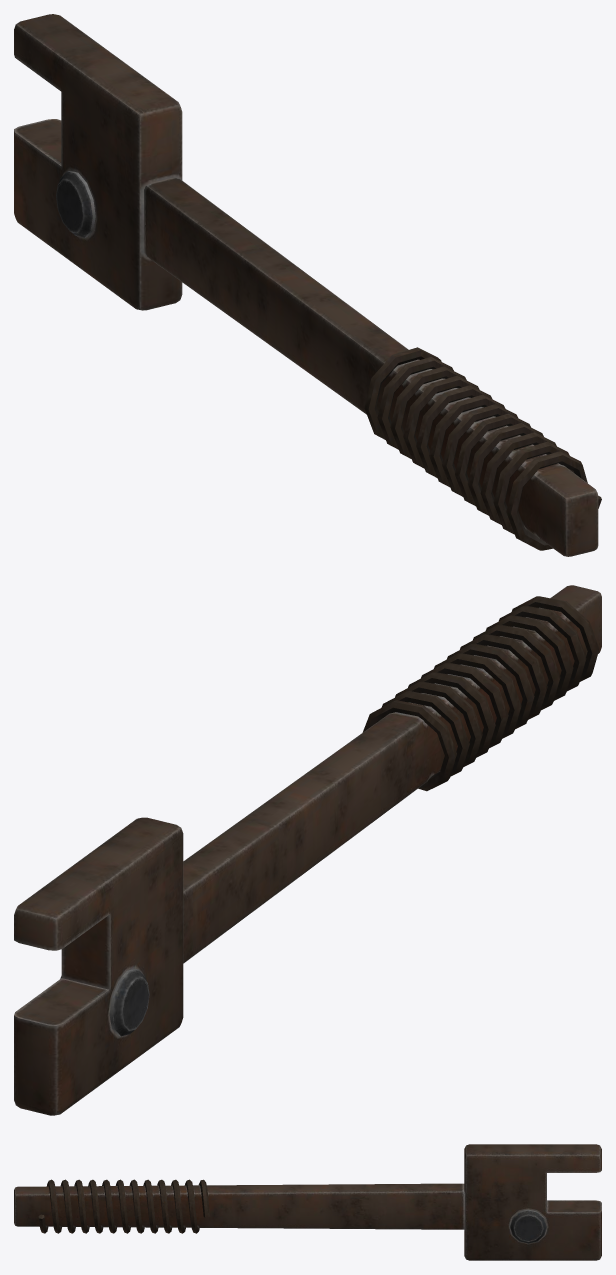
Rendered from pighcib_wrench.glb.
3 renders of one model, top to bottom at view 1: azimuth 30°, elevation 25°; view 2: azimuth 150°, elevation 25°; view 3: azimuth 270°, elevation 25°, orthographic. The views are drawn at different scales.
Parts seen in each view (by area): view 1: pighcib_wrench; view 2: pighcib_wrench; view 3: pighcib_wrench.
Part boxes in pixels (x1,y1,x2,y2): pighcib_wrench: (14,14,601,556); pighcib_wrench: (14,585,601,1115); pighcib_wrench: (14,1144,601,1260).
Size of the model in its own units: 0.0297 by 0.065 by 0.32.
Materials: 1 (1 with a texture image).
